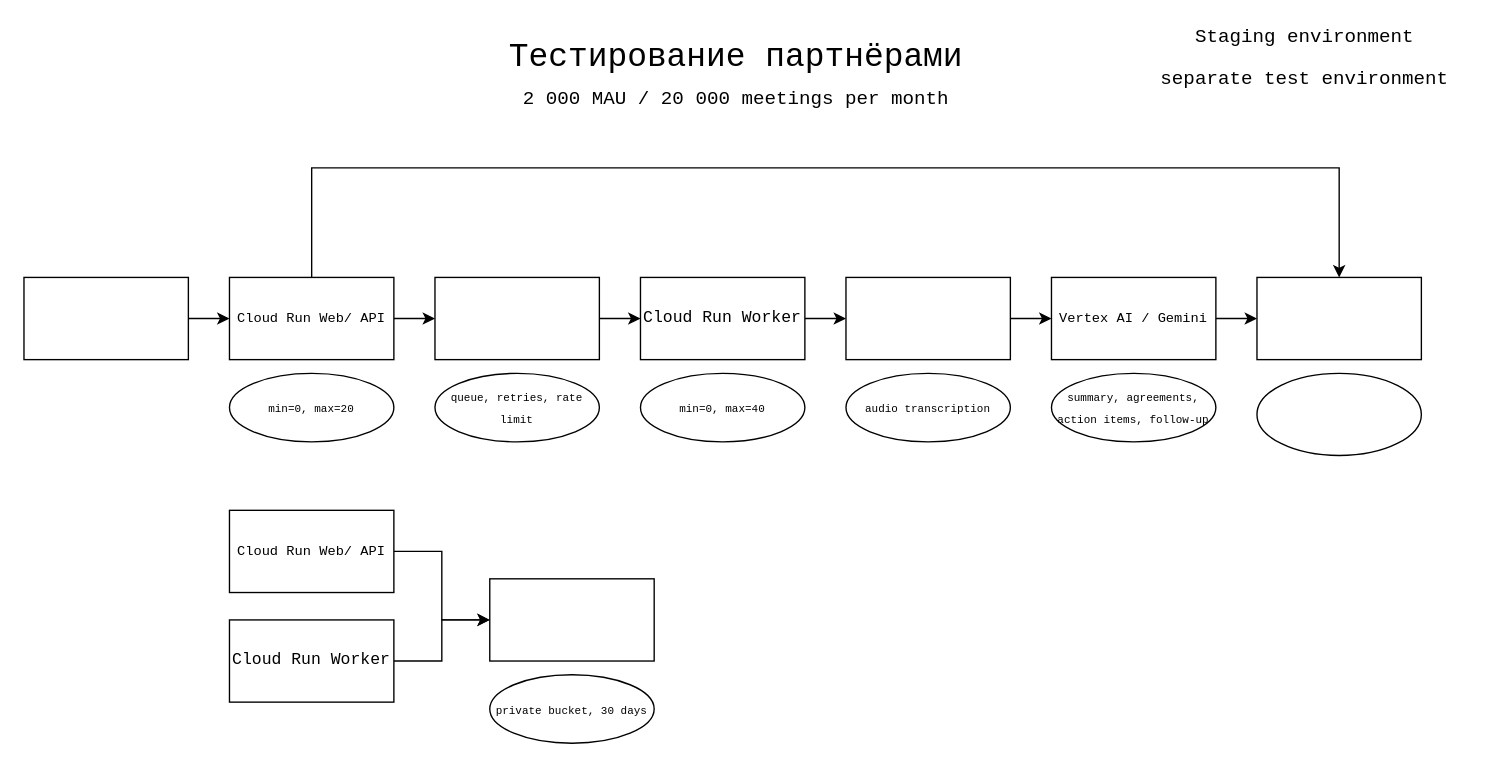
Image size: 1486x767. Some labels were removed from this diagram. The centre of each missing label's shape, as x and y in pixels:
"Cloud Storage" belongs at point 571,619.
"Cloud Tasks" belongs at point 516,318.
"Firestore" belongs at point 1338,318.
"Speech-to-Text" belongs at point 927,318.
"users, jobs, tenants, statuses, results" belongs at point 1338,414.
"Пользователь / Партнёр" belongs at point 105,318.
